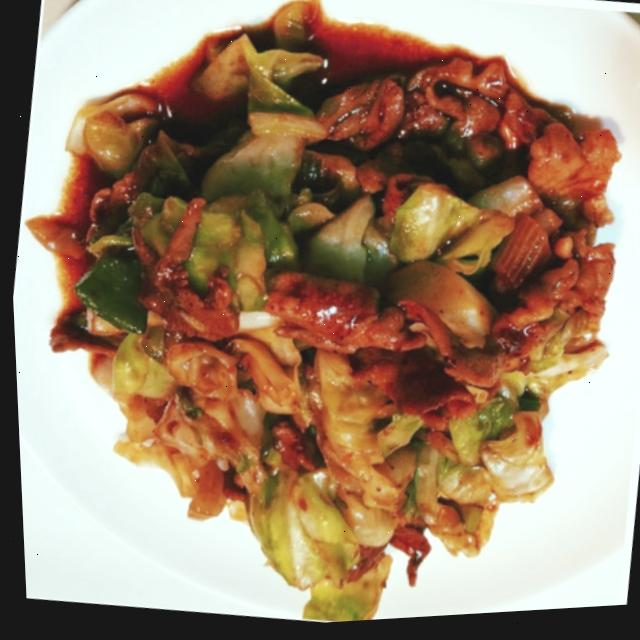猪肉菜式: (39, 0, 630, 626)
